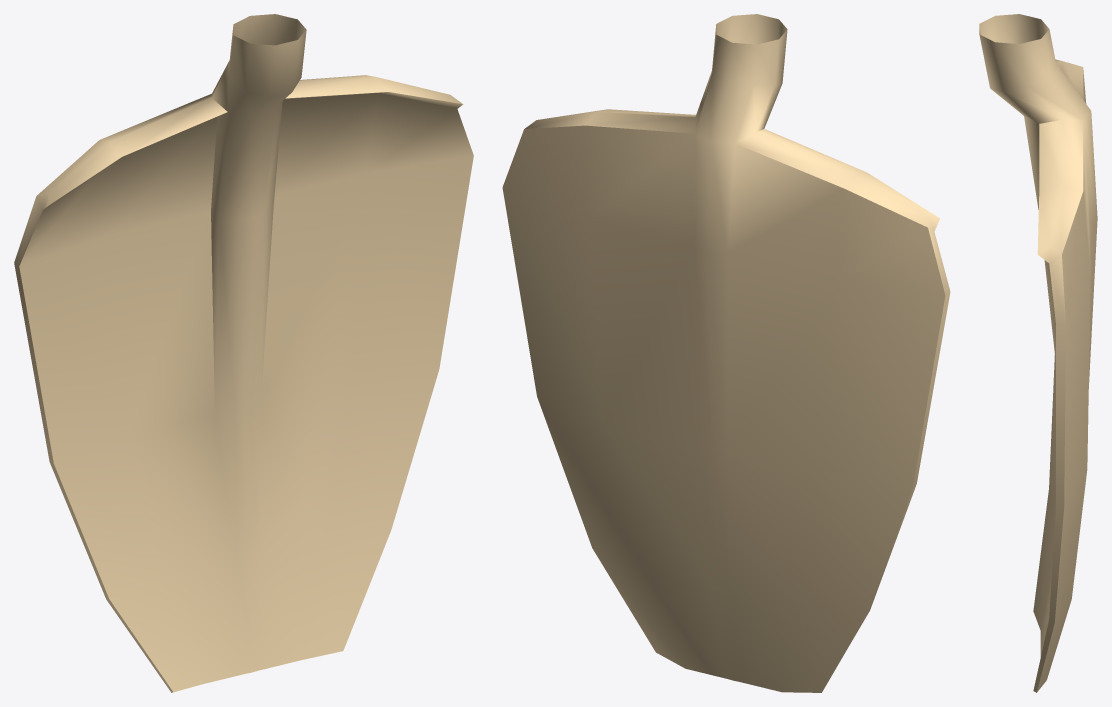
3 renders of one model, left to right at view 1: azimuth 30°, elevation 25°; view 2: azimuth 150°, elevation 25°; view 3: azimuth 270°, elevation 25°, orthographic. The views are drawn at different scales.
Parts seen in each view (by area): view 1: Joint_0_Object_0; view 2: Joint_0_Object_0; view 3: Joint_0_Object_0.
Part boxes in pixels (x1,y1,x2,y2): Joint_0_Object_0: (14, 14, 473, 692); Joint_0_Object_0: (502, 14, 950, 692); Joint_0_Object_0: (979, 14, 1097, 692).
Size of the model in its own units: 177 by 244 by 41.58.
